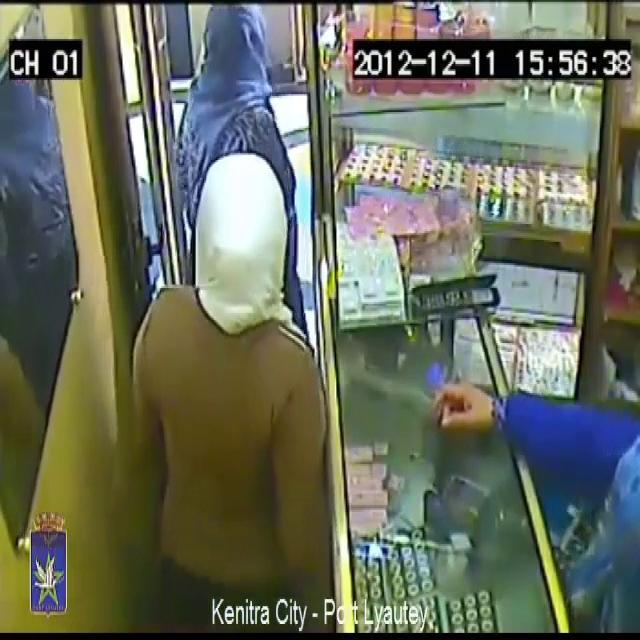normal: (82, 149, 334, 640), (435, 264, 640, 640), (148, 0, 323, 204)
